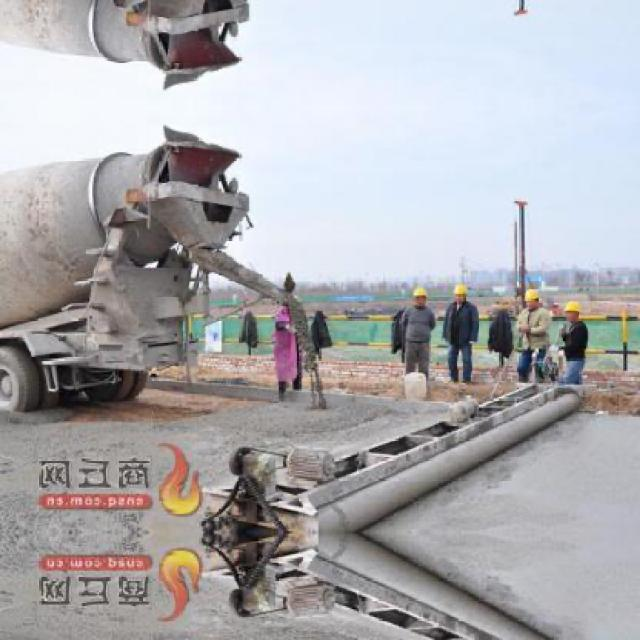helmet: (563, 296, 583, 324), (412, 283, 428, 308), (526, 285, 540, 309), (454, 282, 469, 303)
